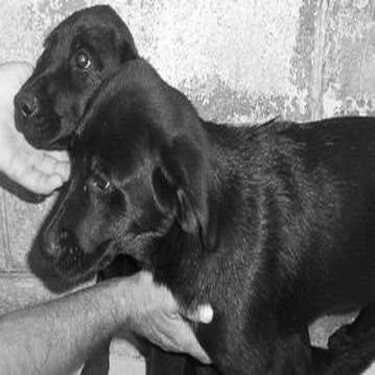dog: (29, 55, 371, 369), (13, 5, 145, 156)
